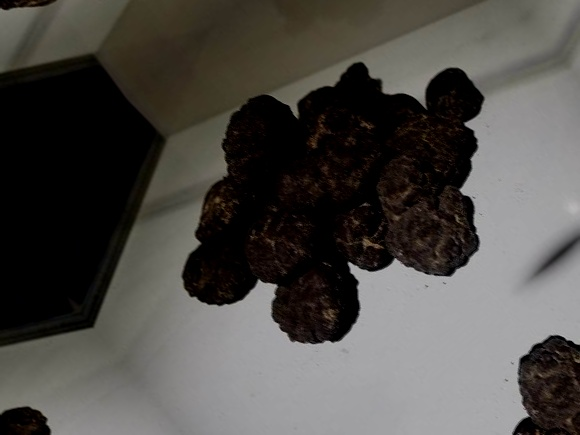halobolite: (301, 64, 405, 200), (208, 82, 321, 196), (260, 230, 367, 348), (273, 157, 402, 254), (167, 227, 276, 314), (177, 178, 277, 251), (405, 193, 487, 277), (409, 65, 490, 148)
